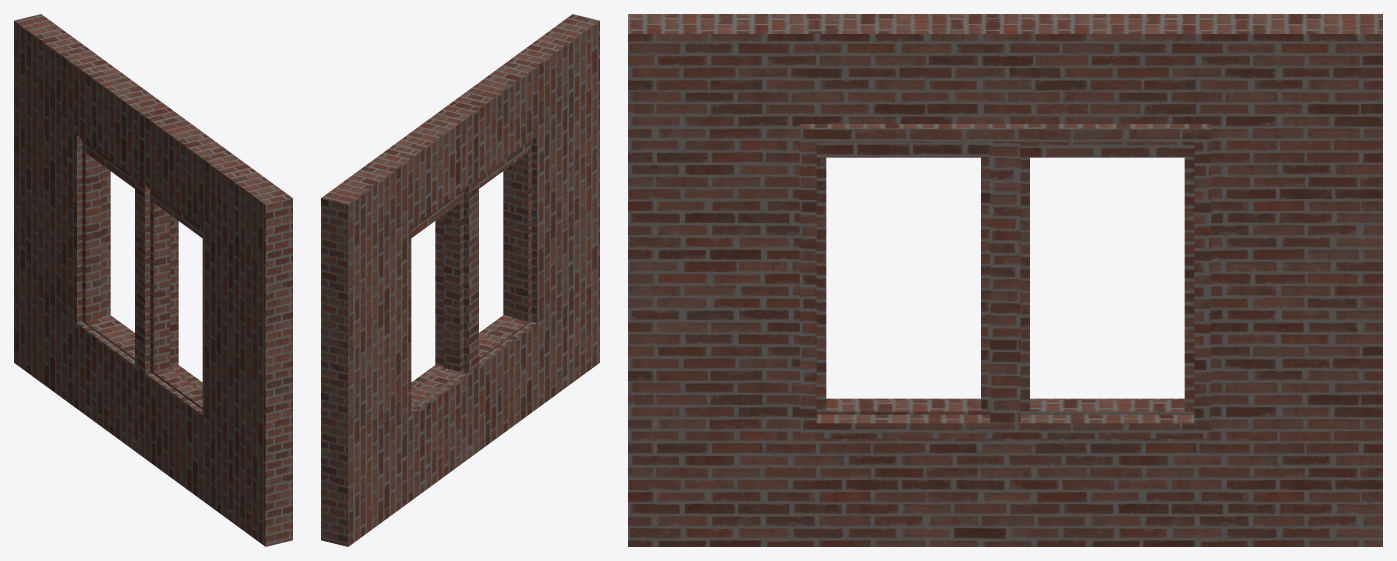
File: officefrontdoor.fbx
3 renders of one model, left to right at view 1: azimuth 30°, elevation 25°; view 2: azimuth 150°, elevation 25°; view 3: azimuth 270°, elevation 25°, orthographic. The views are drawn at different scales.
Parts seen in each view (by area): view 1: LOD-A-WallWithWindowDetailed; view 2: LOD-A-WallWithWindowDetailed; view 3: LOD-A-WallWithWindowDetailed.
Boxes of the visible parts, <box> form: LOD-A-WallWithWindowDetailed: <box>14,14,292,546</box>; LOD-A-WallWithWindowDetailed: <box>321,14,599,546</box>; LOD-A-WallWithWindowDetailed: <box>628,14,1382,546</box>.
Size of the model in its own units: 30.84 by 300 by 400.
